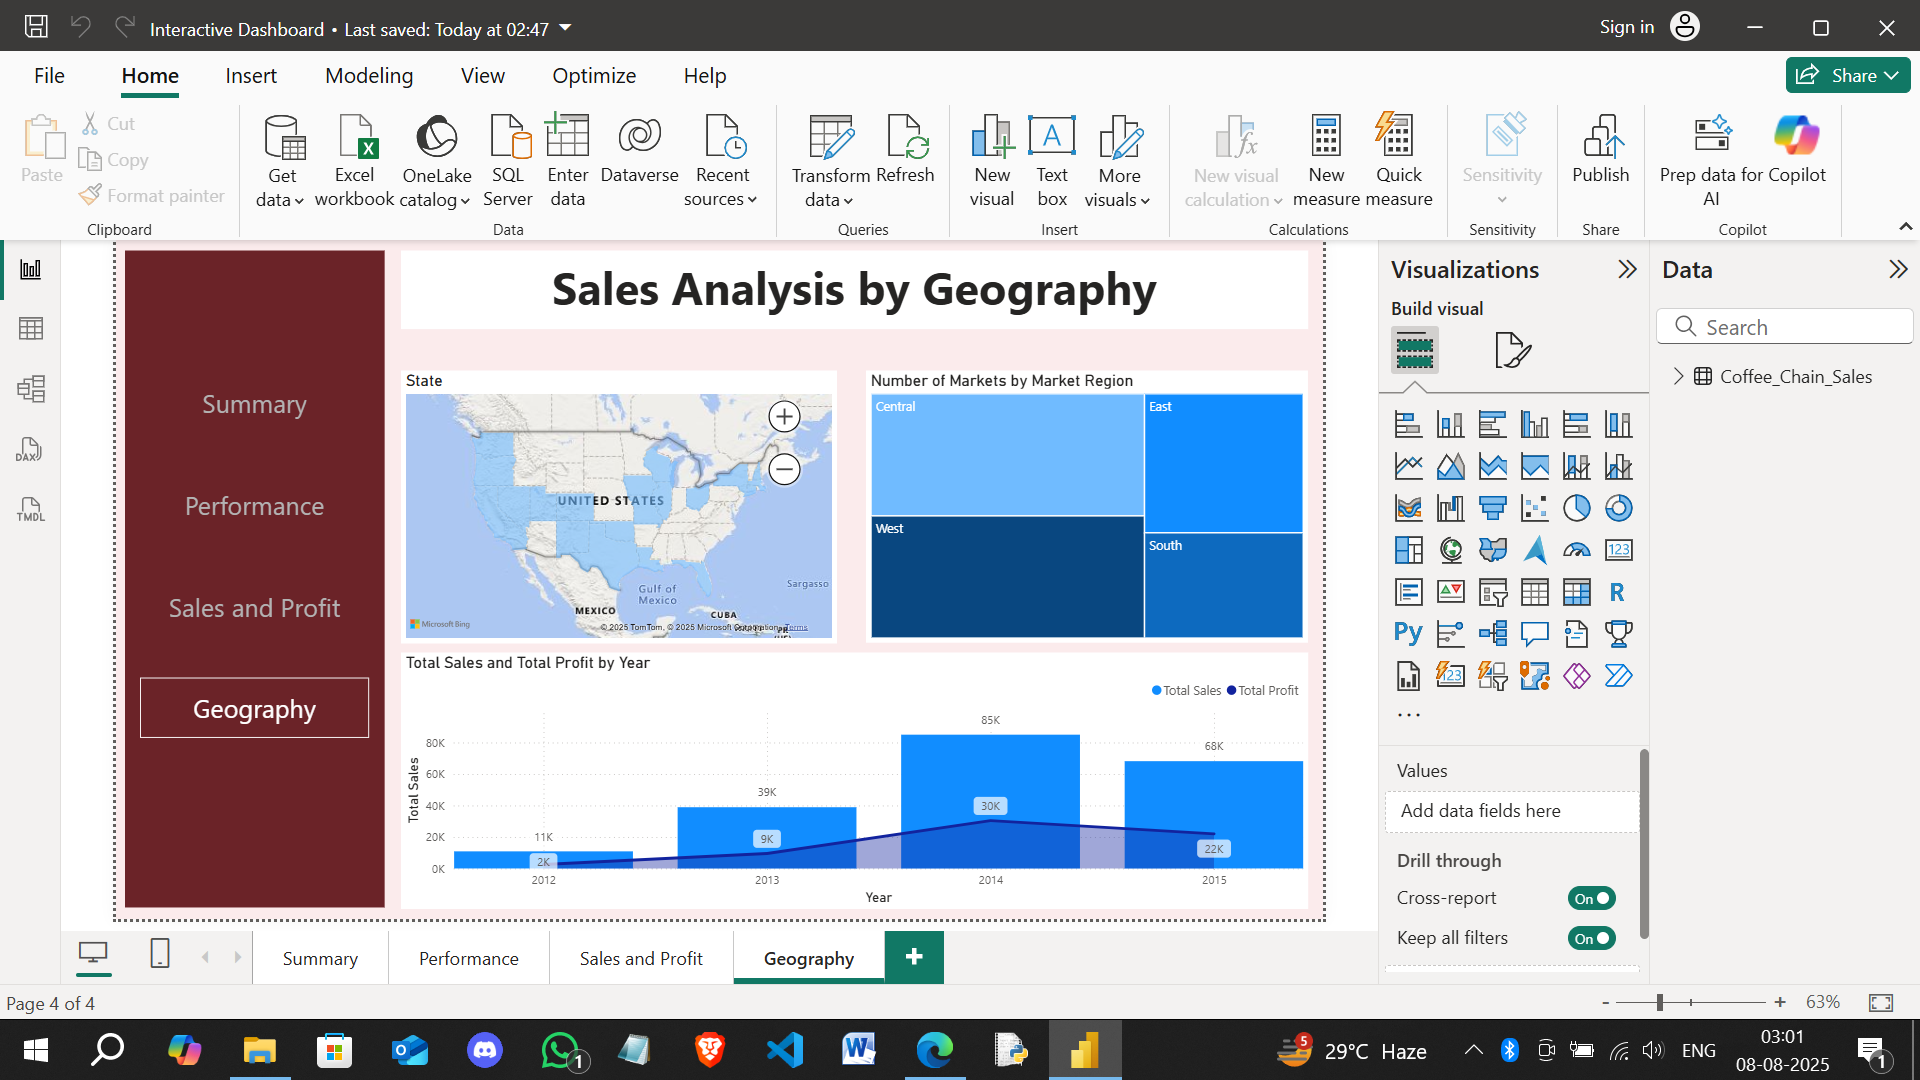

The page's visual inventory and layout, read from the dashboard file:
{"tool":"powerbi","page":{"name":"Geography","canvas":[1280,720],"ordinal":3},"visuals":[{"type":"textbox","box":[9.5,11.1,275.2,696.7],"z":0},{"type":"textbox","box":[301.7,11.7,961.7,83.3],"z":1000},{"type":"treemap","fields":{"Details":["Coffee_Chain_Sales.Market"],"Values":["CountNonNull(Coffee_Chain_Sales.Market_size)"]},"box":[795,138.3,468.3,288.3],"z":2000},{"type":"lineClusteredColumnComboChart","fields":{"Y":["Sum(Coffee_Chain_Sales.Sales)"],"Y2":["Sum(Coffee_Chain_Sales.Profit)"],"Category":["Coffee_Chain_Sales.Year","Coffee_Chain_Sales.Month"]},"box":[301.7,436.7,961.7,271.7],"z":3000},{"type":"filledMap","fields":{"Category":["Coffee_Chain_Sales.State"]},"box":[301.7,138.3,461.7,288.3],"z":4000},{"type":"pageNavigator","box":[25.4,140,243.4,388.1],"z":4001}]}

Visuals, with their boxes on the page's 1280x720 design canvas (x1, y1, x2, y2). These are canvas units, not pixel positions in the 1920x1080 screenshot, which may show the page scaled, cropped or inside an application window:
textbox: crop(10, 11, 285, 708)
textbox: crop(302, 12, 1263, 95)
treemap - Coffee_Chain_Sales.Market x CountNonNull(Coffee_Chain_Sales.Market_size): crop(795, 138, 1263, 427)
lineClusteredColumnComboChart - Sum(Coffee_Chain_Sales.Sales) x Sum(Coffee_Chain_Sales.Profit): crop(302, 437, 1263, 708)
filledMap - Coffee_Chain_Sales.State: crop(302, 138, 763, 427)
pageNavigator: crop(25, 140, 269, 528)
